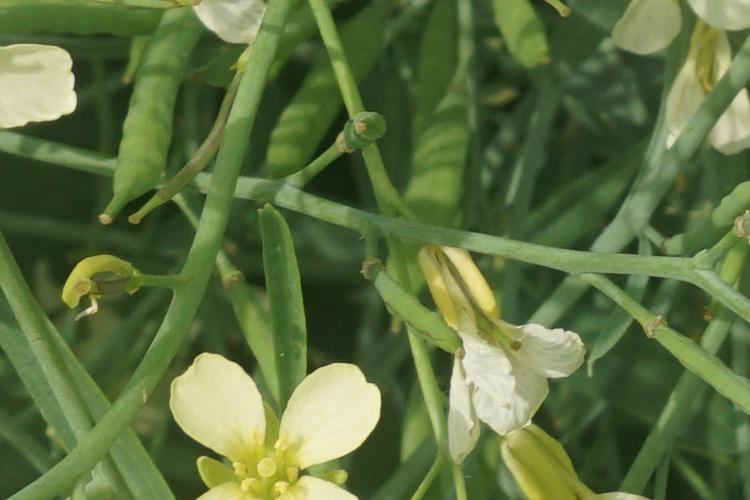pod: (131, 57, 259, 242), (615, 298, 750, 407), (84, 95, 179, 223), (369, 267, 475, 367)
white: (118, 321, 372, 496), (408, 253, 596, 460)
